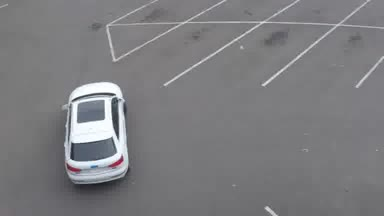car: (53, 78, 134, 185)
